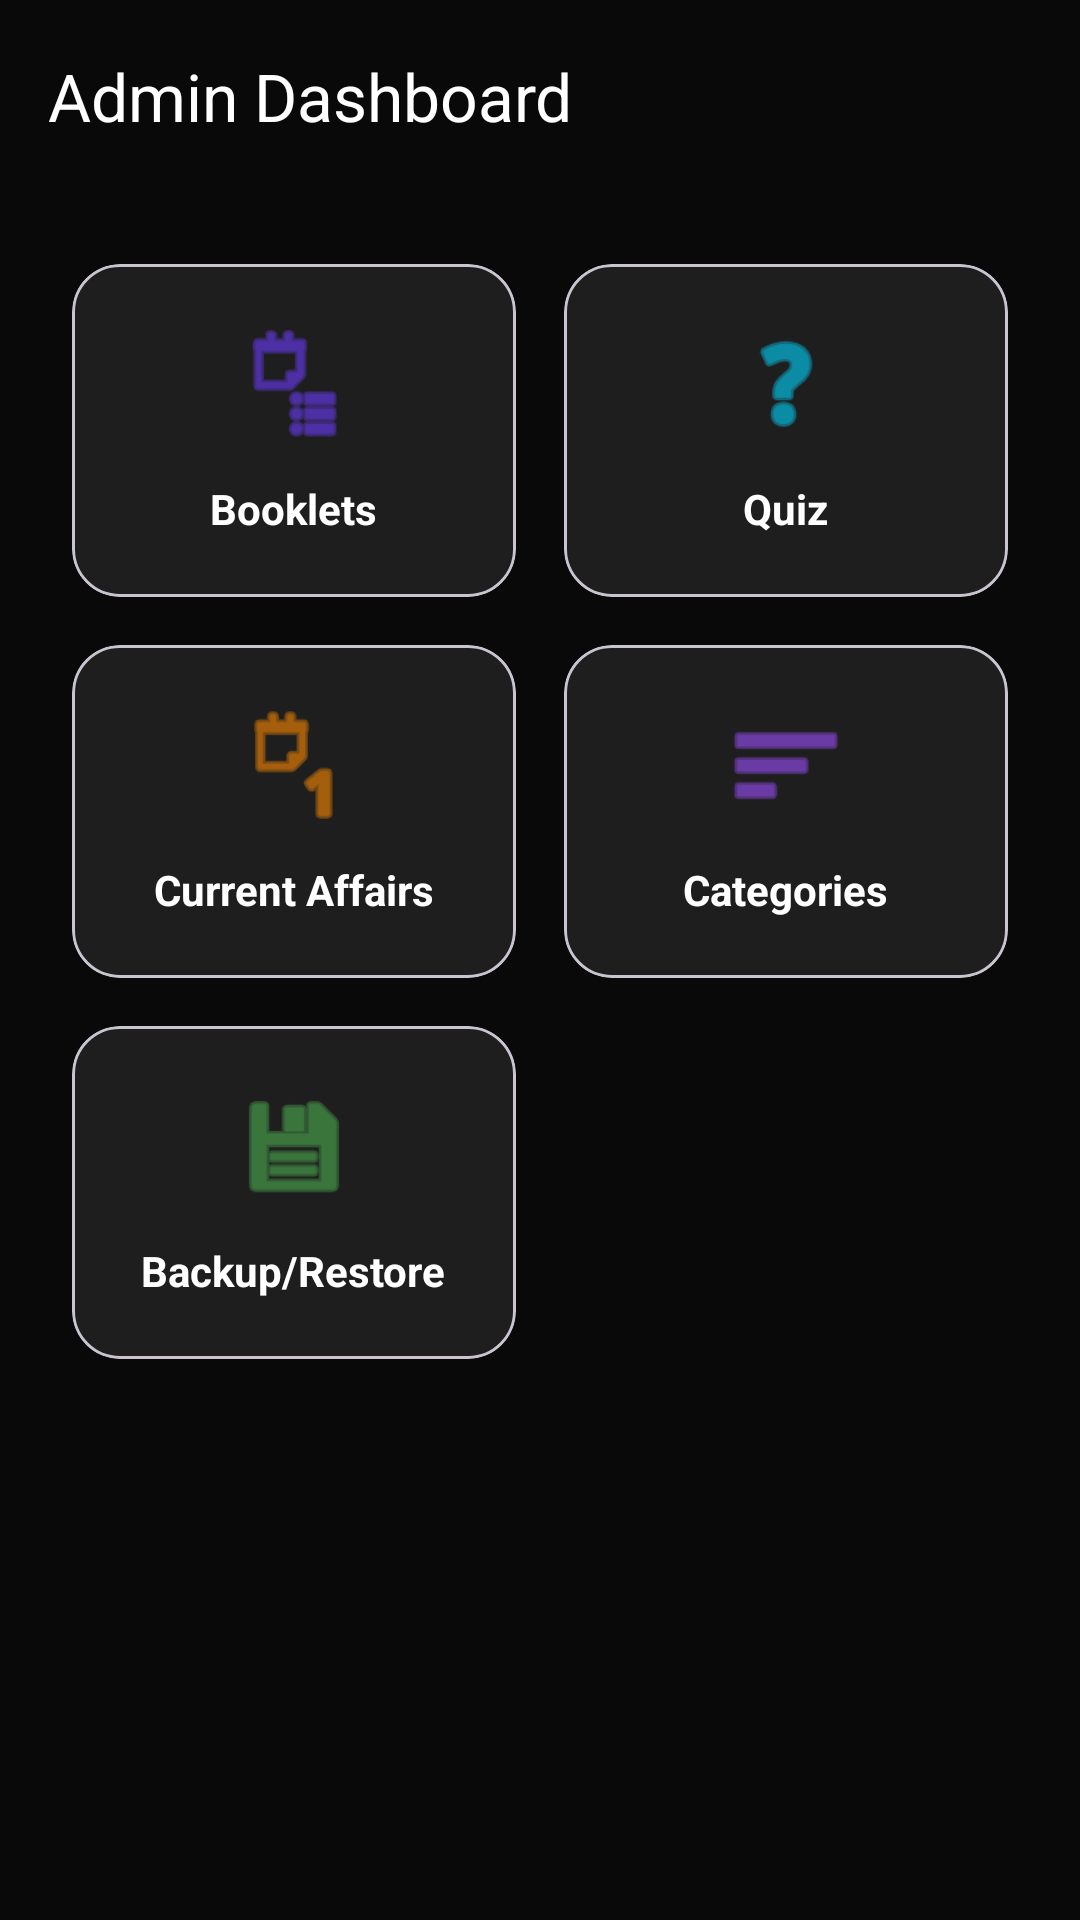

Named icons in this screenshot (1080w x 1920h) and their bounding boxes, (x1, y1, x2, y2):
agenda: (252, 330, 337, 437)
day: (254, 711, 333, 819)
help: (760, 341, 812, 427)
save: (249, 1101, 339, 1192)
sort by size: (734, 732, 838, 799)
